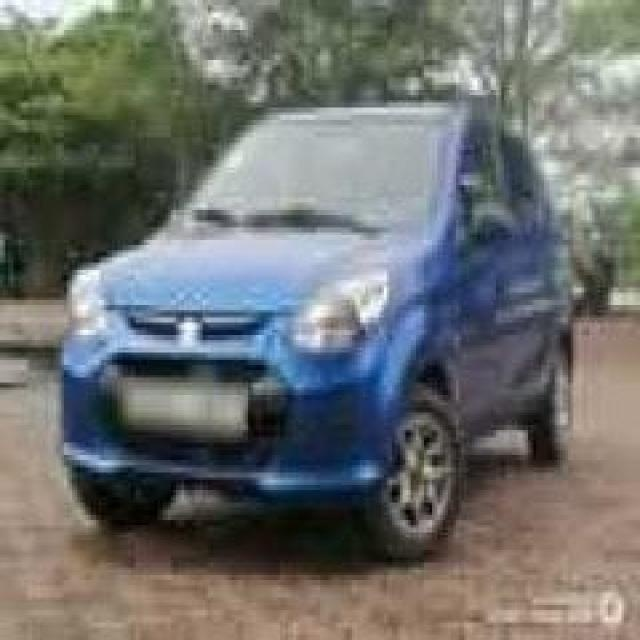car: (24, 75, 581, 573)
